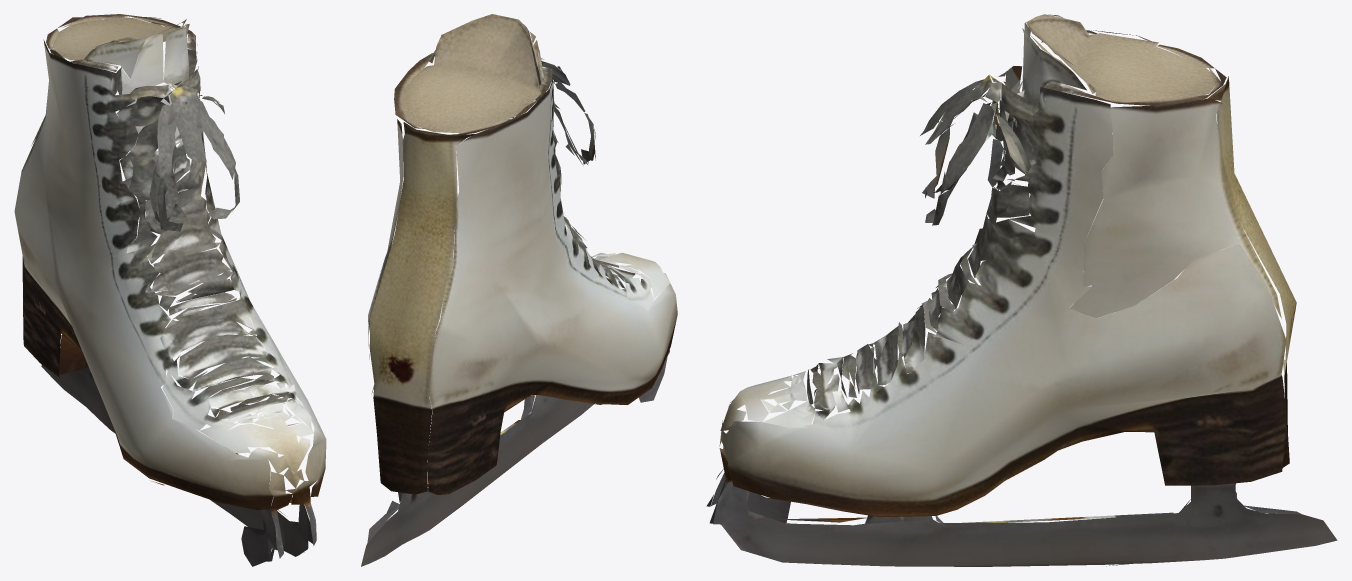
File: skate.glb
The picture shows the model from 3 angles, left to right: view 1: azimuth 30°, elevation 25°; view 2: azimuth 150°, elevation 25°; view 3: azimuth 270°, elevation 25°; orthographic projection. The views are drawn at different scales.
Visible parts, largest first — view 1: skate; view 2: skate; view 3: skate.
Boxes of the visible parts, x1,y1,x2,y2 form: skate: [14, 14, 326, 566]; skate: [361, 14, 677, 566]; skate: [706, 14, 1337, 566].
Bounding box in the file's own units: 0.1061 × 0.2784 × 0.3.
1 material, 1 textured.
